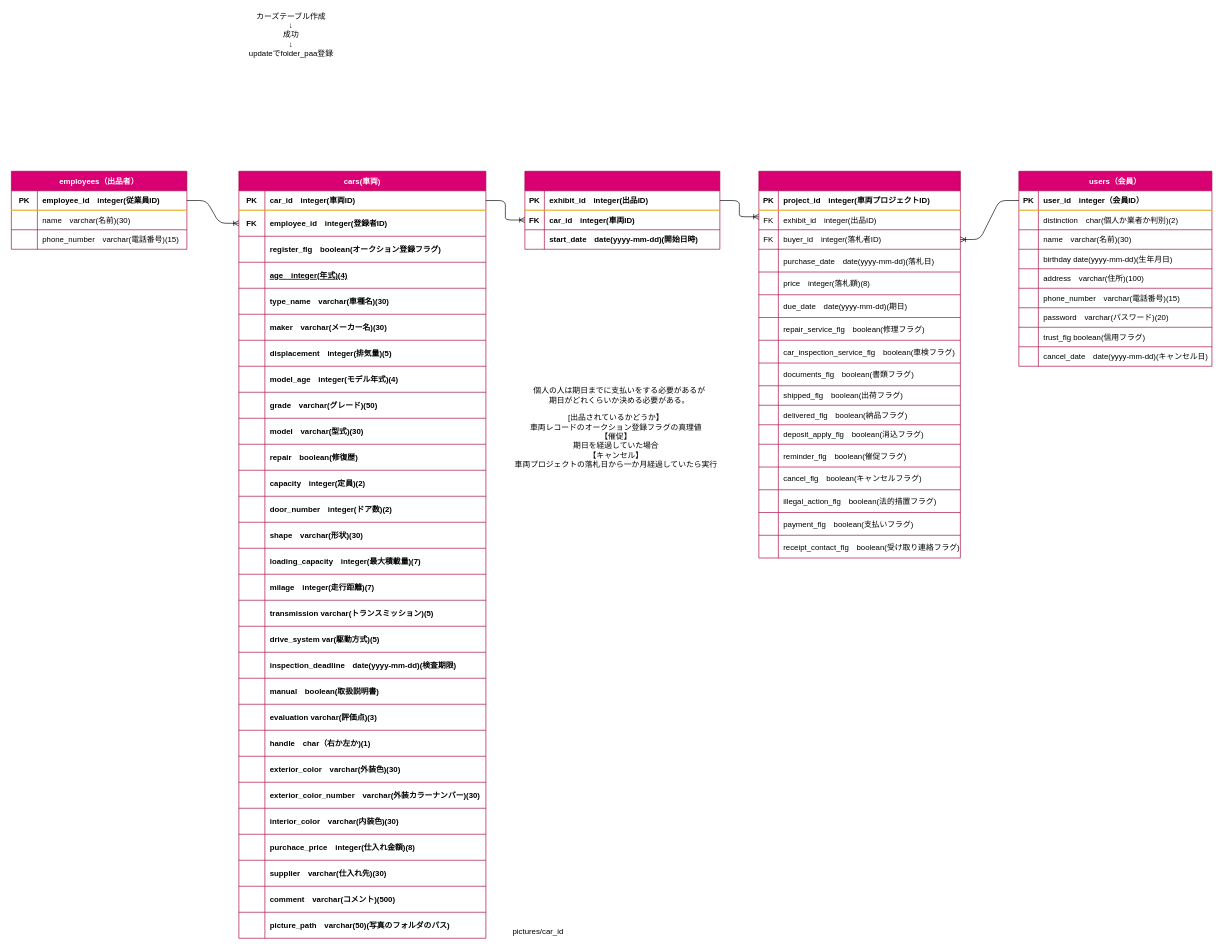
Image size: 1223x950. Some labels were removed from this diagram. Each missing label, with the box of its shape:
exhibits(出品): (524, 171, 720, 249)
projects (車両プロジェクト): (758, 171, 960, 558)
